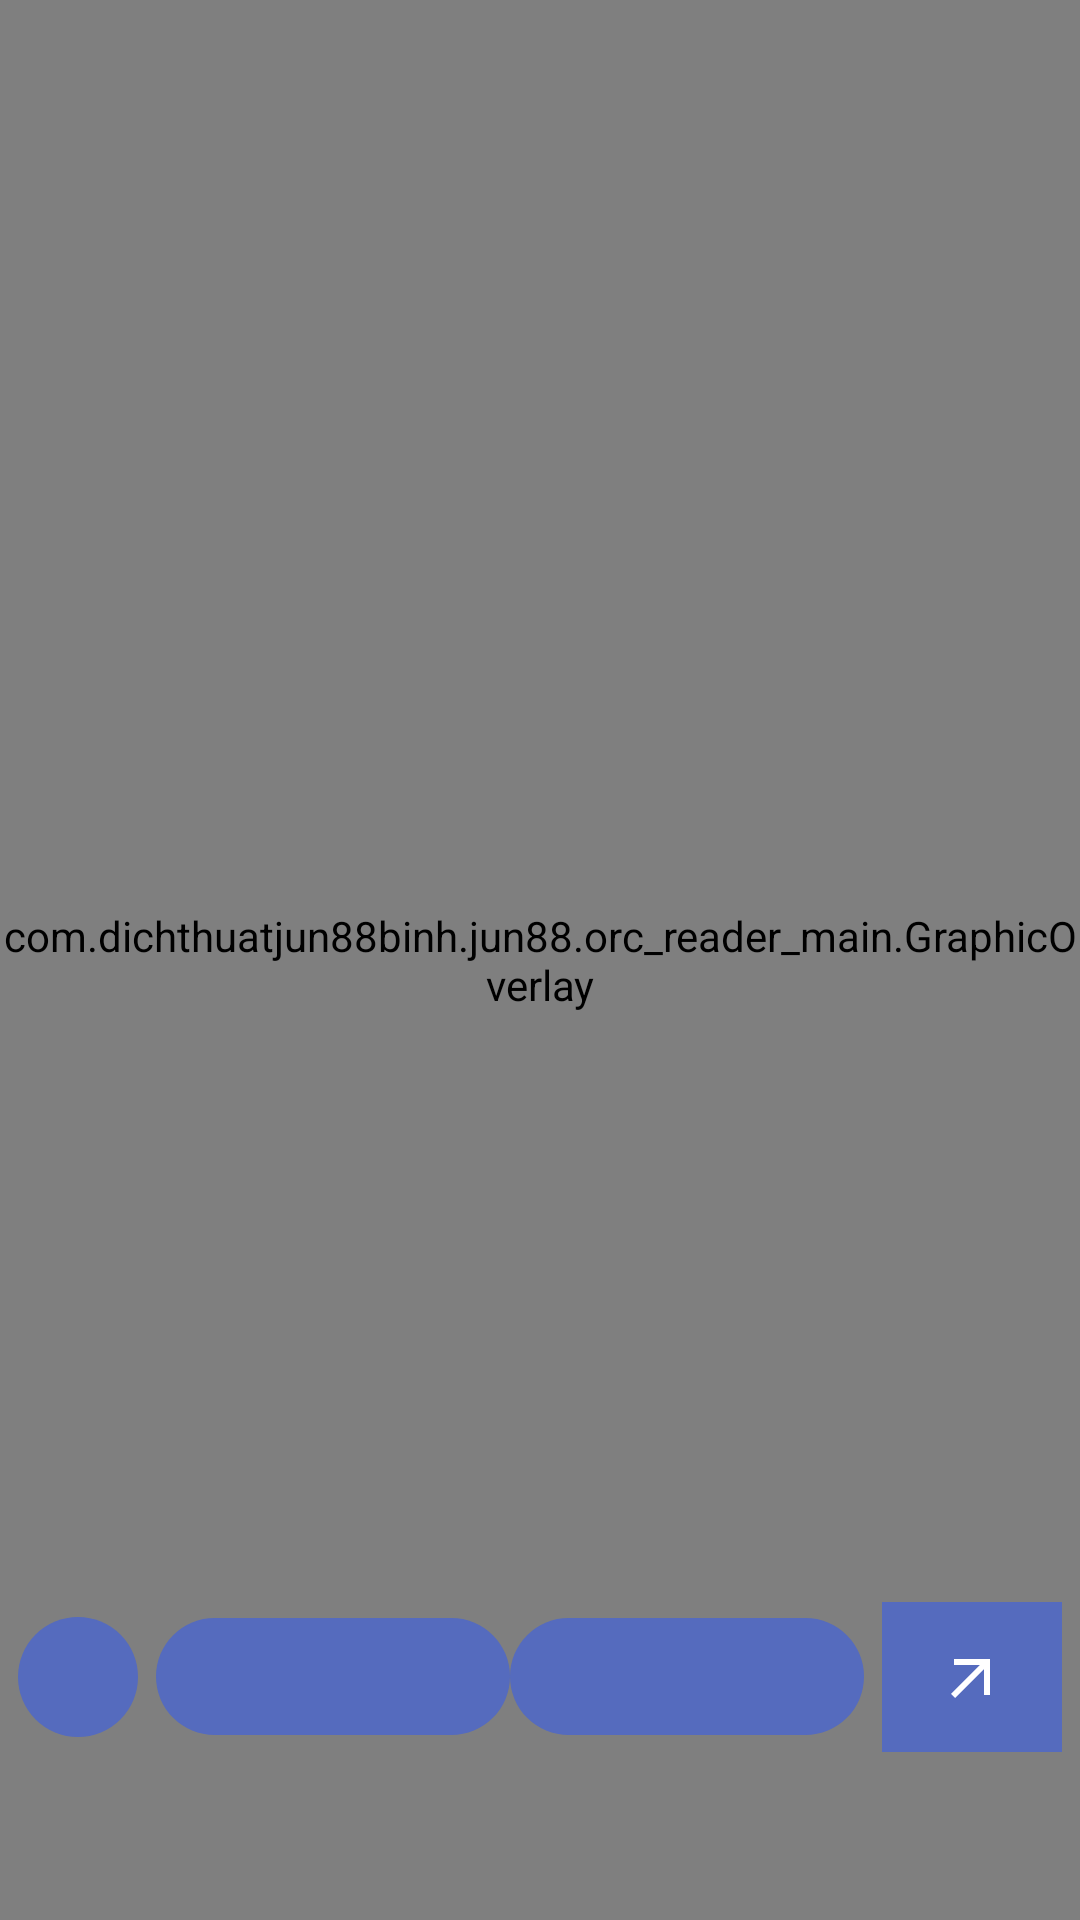

Screen size 1080px x 1920px. Icon name, then its center in pixels as (x=x, y=y):
arrow outward: (x=972, y=1677)
